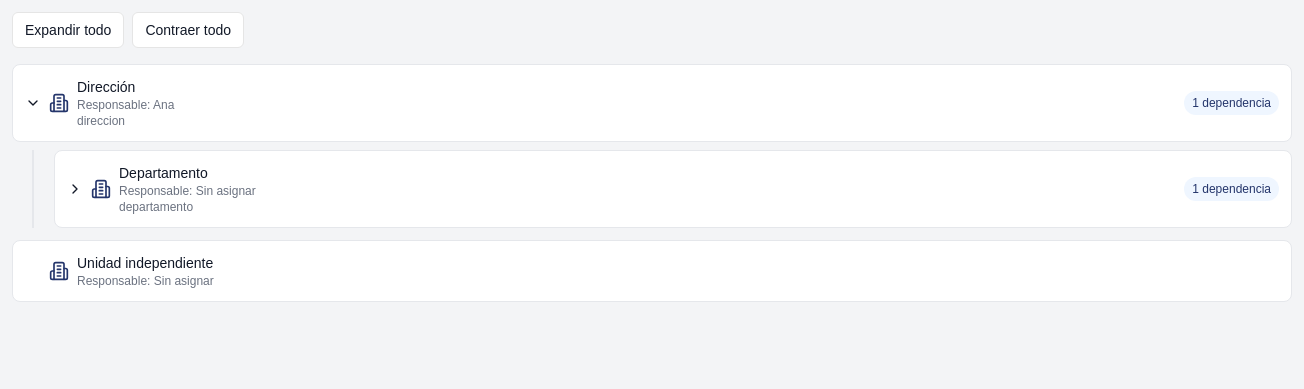
Scenario: muestra raíces e hijos anidados y permite explorar niveles con teclado
The image size is (1304, 389).
Expected: the text "Unidad independiente" is shown, [77,255,213,271]
Expected: the text "Responsable: Ana" is shown, [77,98,174,112]
Click the button "Departamento" at (163, 173), box [54,150,1292,228]
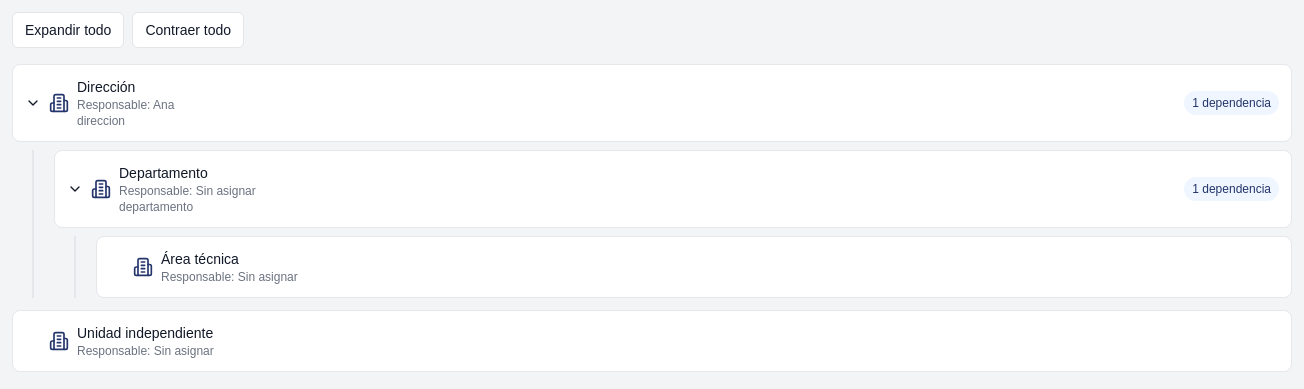
Expected: the text "Área técnica" is shown, [161,251,239,267]
Expected: the text "Responsable: Sin asignar" is shown 3 times, [119,184,256,198]; [161,270,298,284]; [77,344,214,358]
Expected: the text "Departamento" is shown once, [119,165,208,181]
